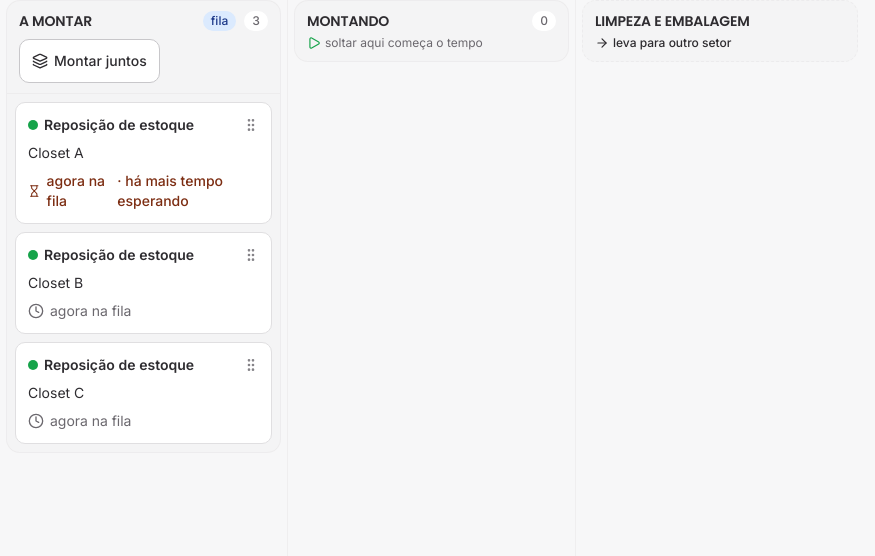
Test: QuadroKanban — Montar juntos (SESSAO-42) › Cancelar sai do modo sem mandar nada
Click the button "Montar juntos": point(89, 61) x1=19 y1=39 x2=160 y2=83
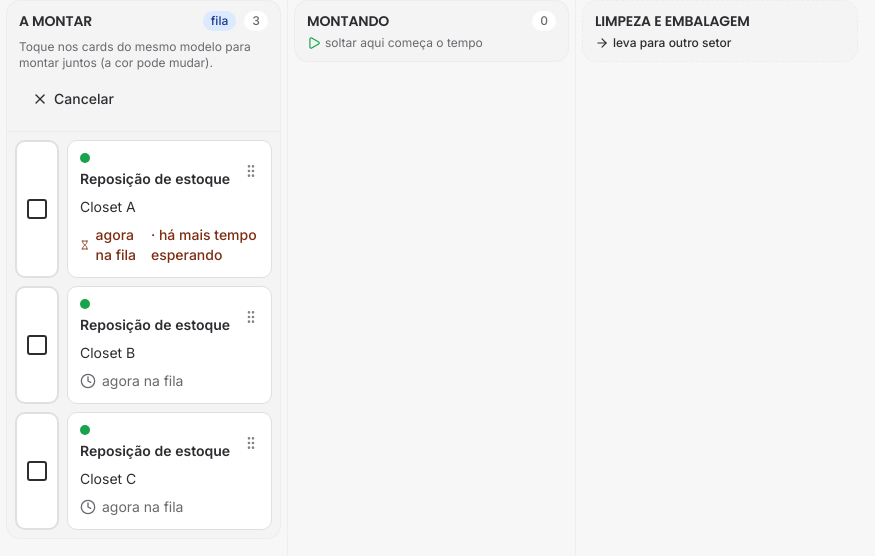
Click the button "Cancelar": point(73, 99) x1=19 y1=77 x2=127 y2=121
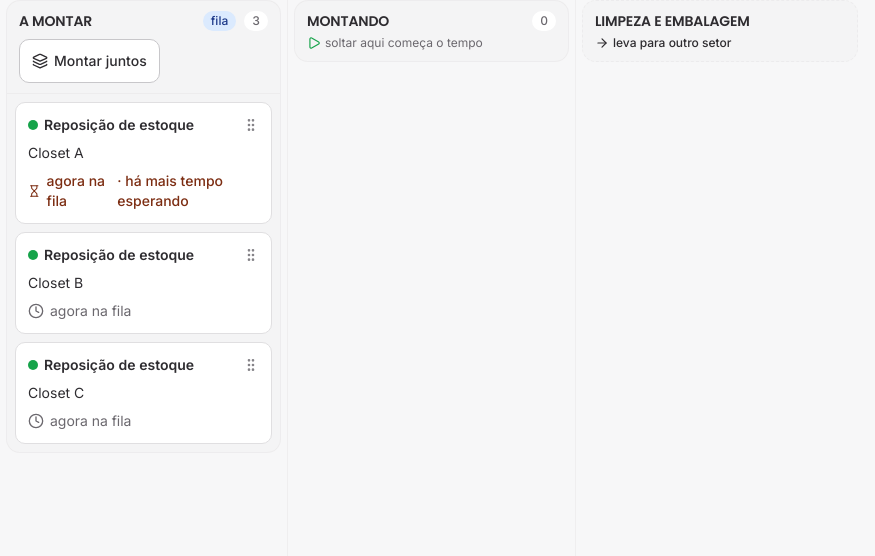
Expected: no checkboxes are shown
